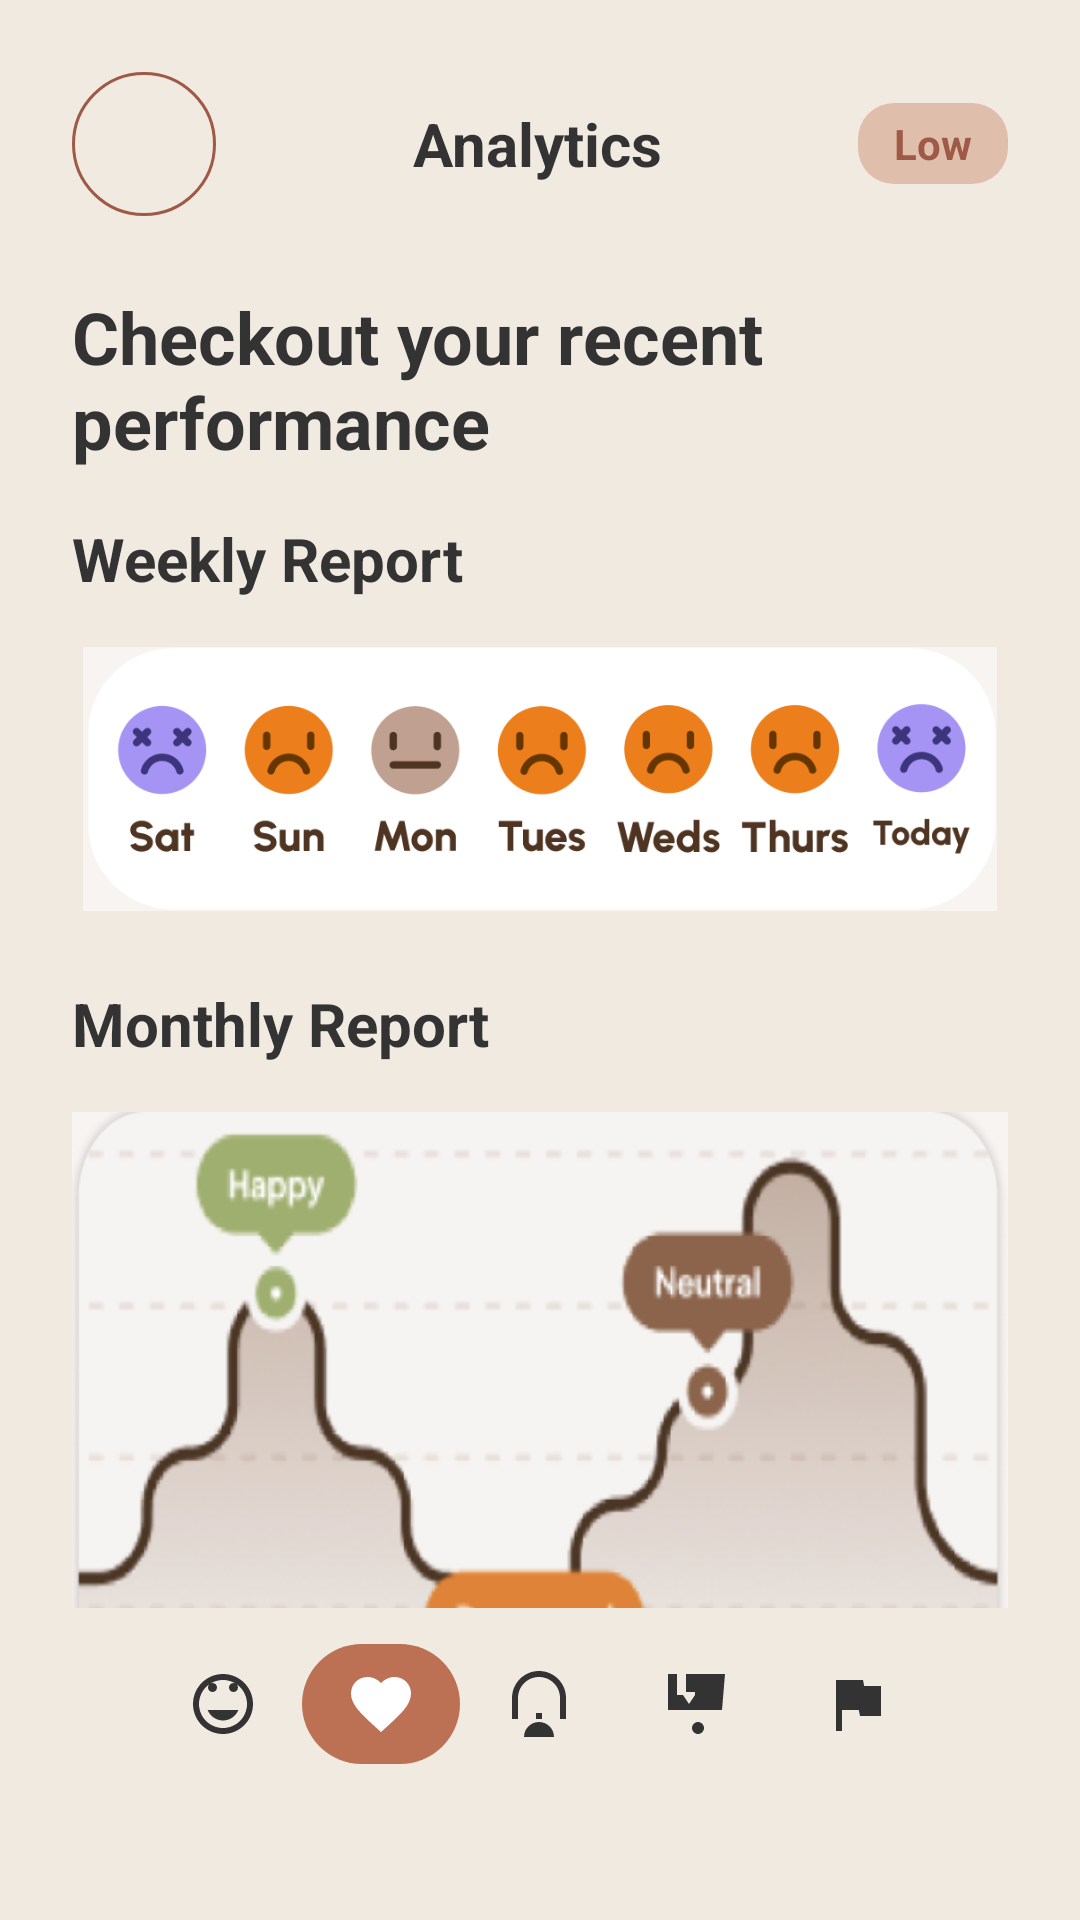

Screen size 1080×1920. Icon name, then its center in pixels as [x,y]:
Flag icon: [858,1705]
Happy face icon: [223,1704]
Heart icon: [381,1704]
